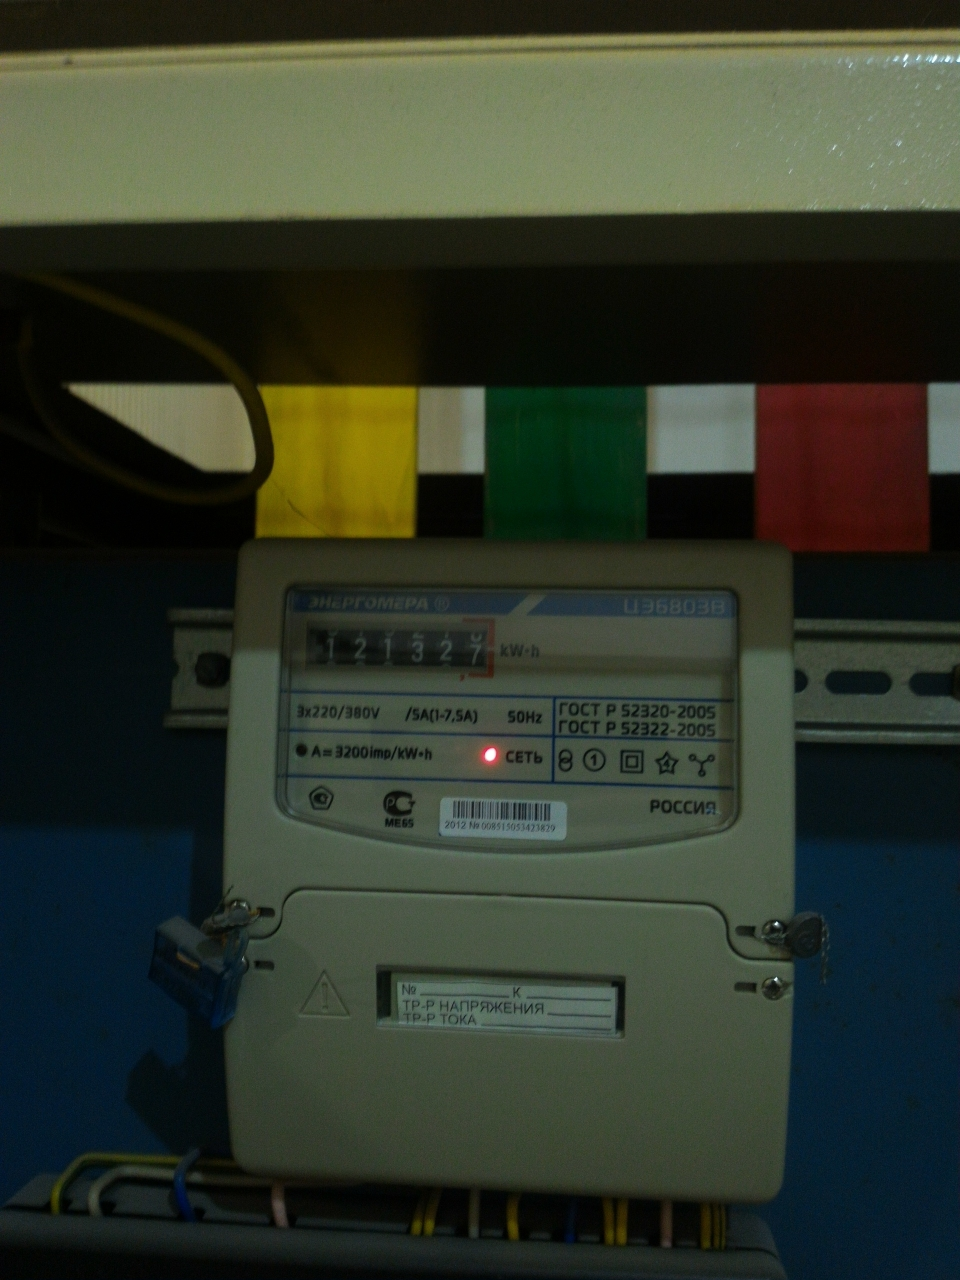1: (323, 635, 339, 660), (380, 637, 394, 661)
2: (437, 638, 454, 664), (352, 636, 368, 661)
3: (408, 640, 425, 664)
7: (467, 642, 483, 666)
screen: (294, 610, 506, 687)
